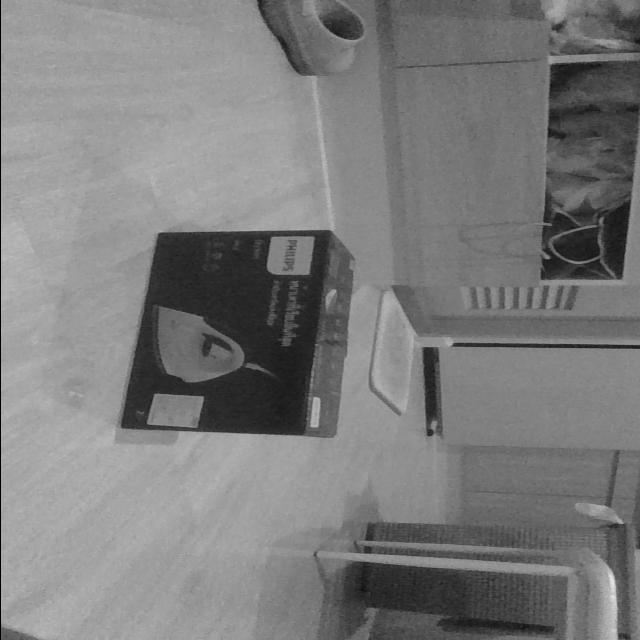IRON: (116, 227, 360, 440)
